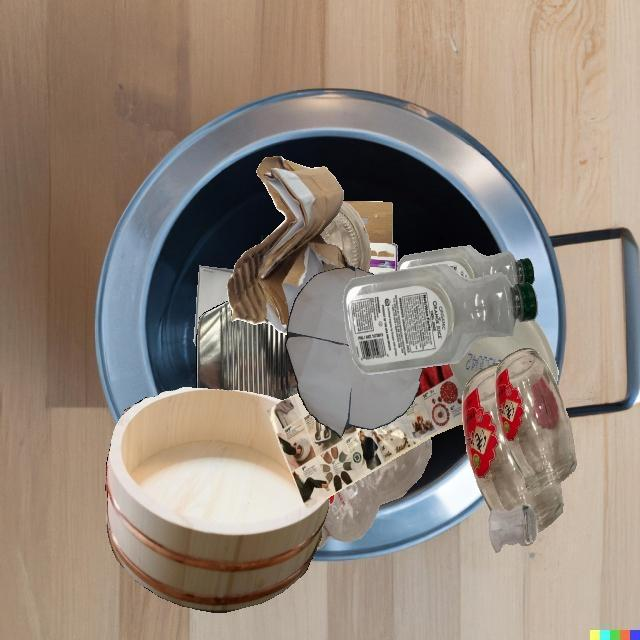cardboard: (227, 156, 351, 335), (343, 201, 398, 275)
combustible waste: (106, 387, 329, 613)
glass: (462, 363, 563, 533), (495, 348, 576, 495), (319, 201, 371, 272), (489, 505, 537, 553)
metal: (196, 301, 299, 400)
paper: (267, 364, 463, 507), (286, 265, 422, 438), (194, 266, 234, 347)
plastic: (343, 264, 537, 375), (316, 438, 432, 550), (449, 320, 558, 394), (397, 245, 534, 285)
